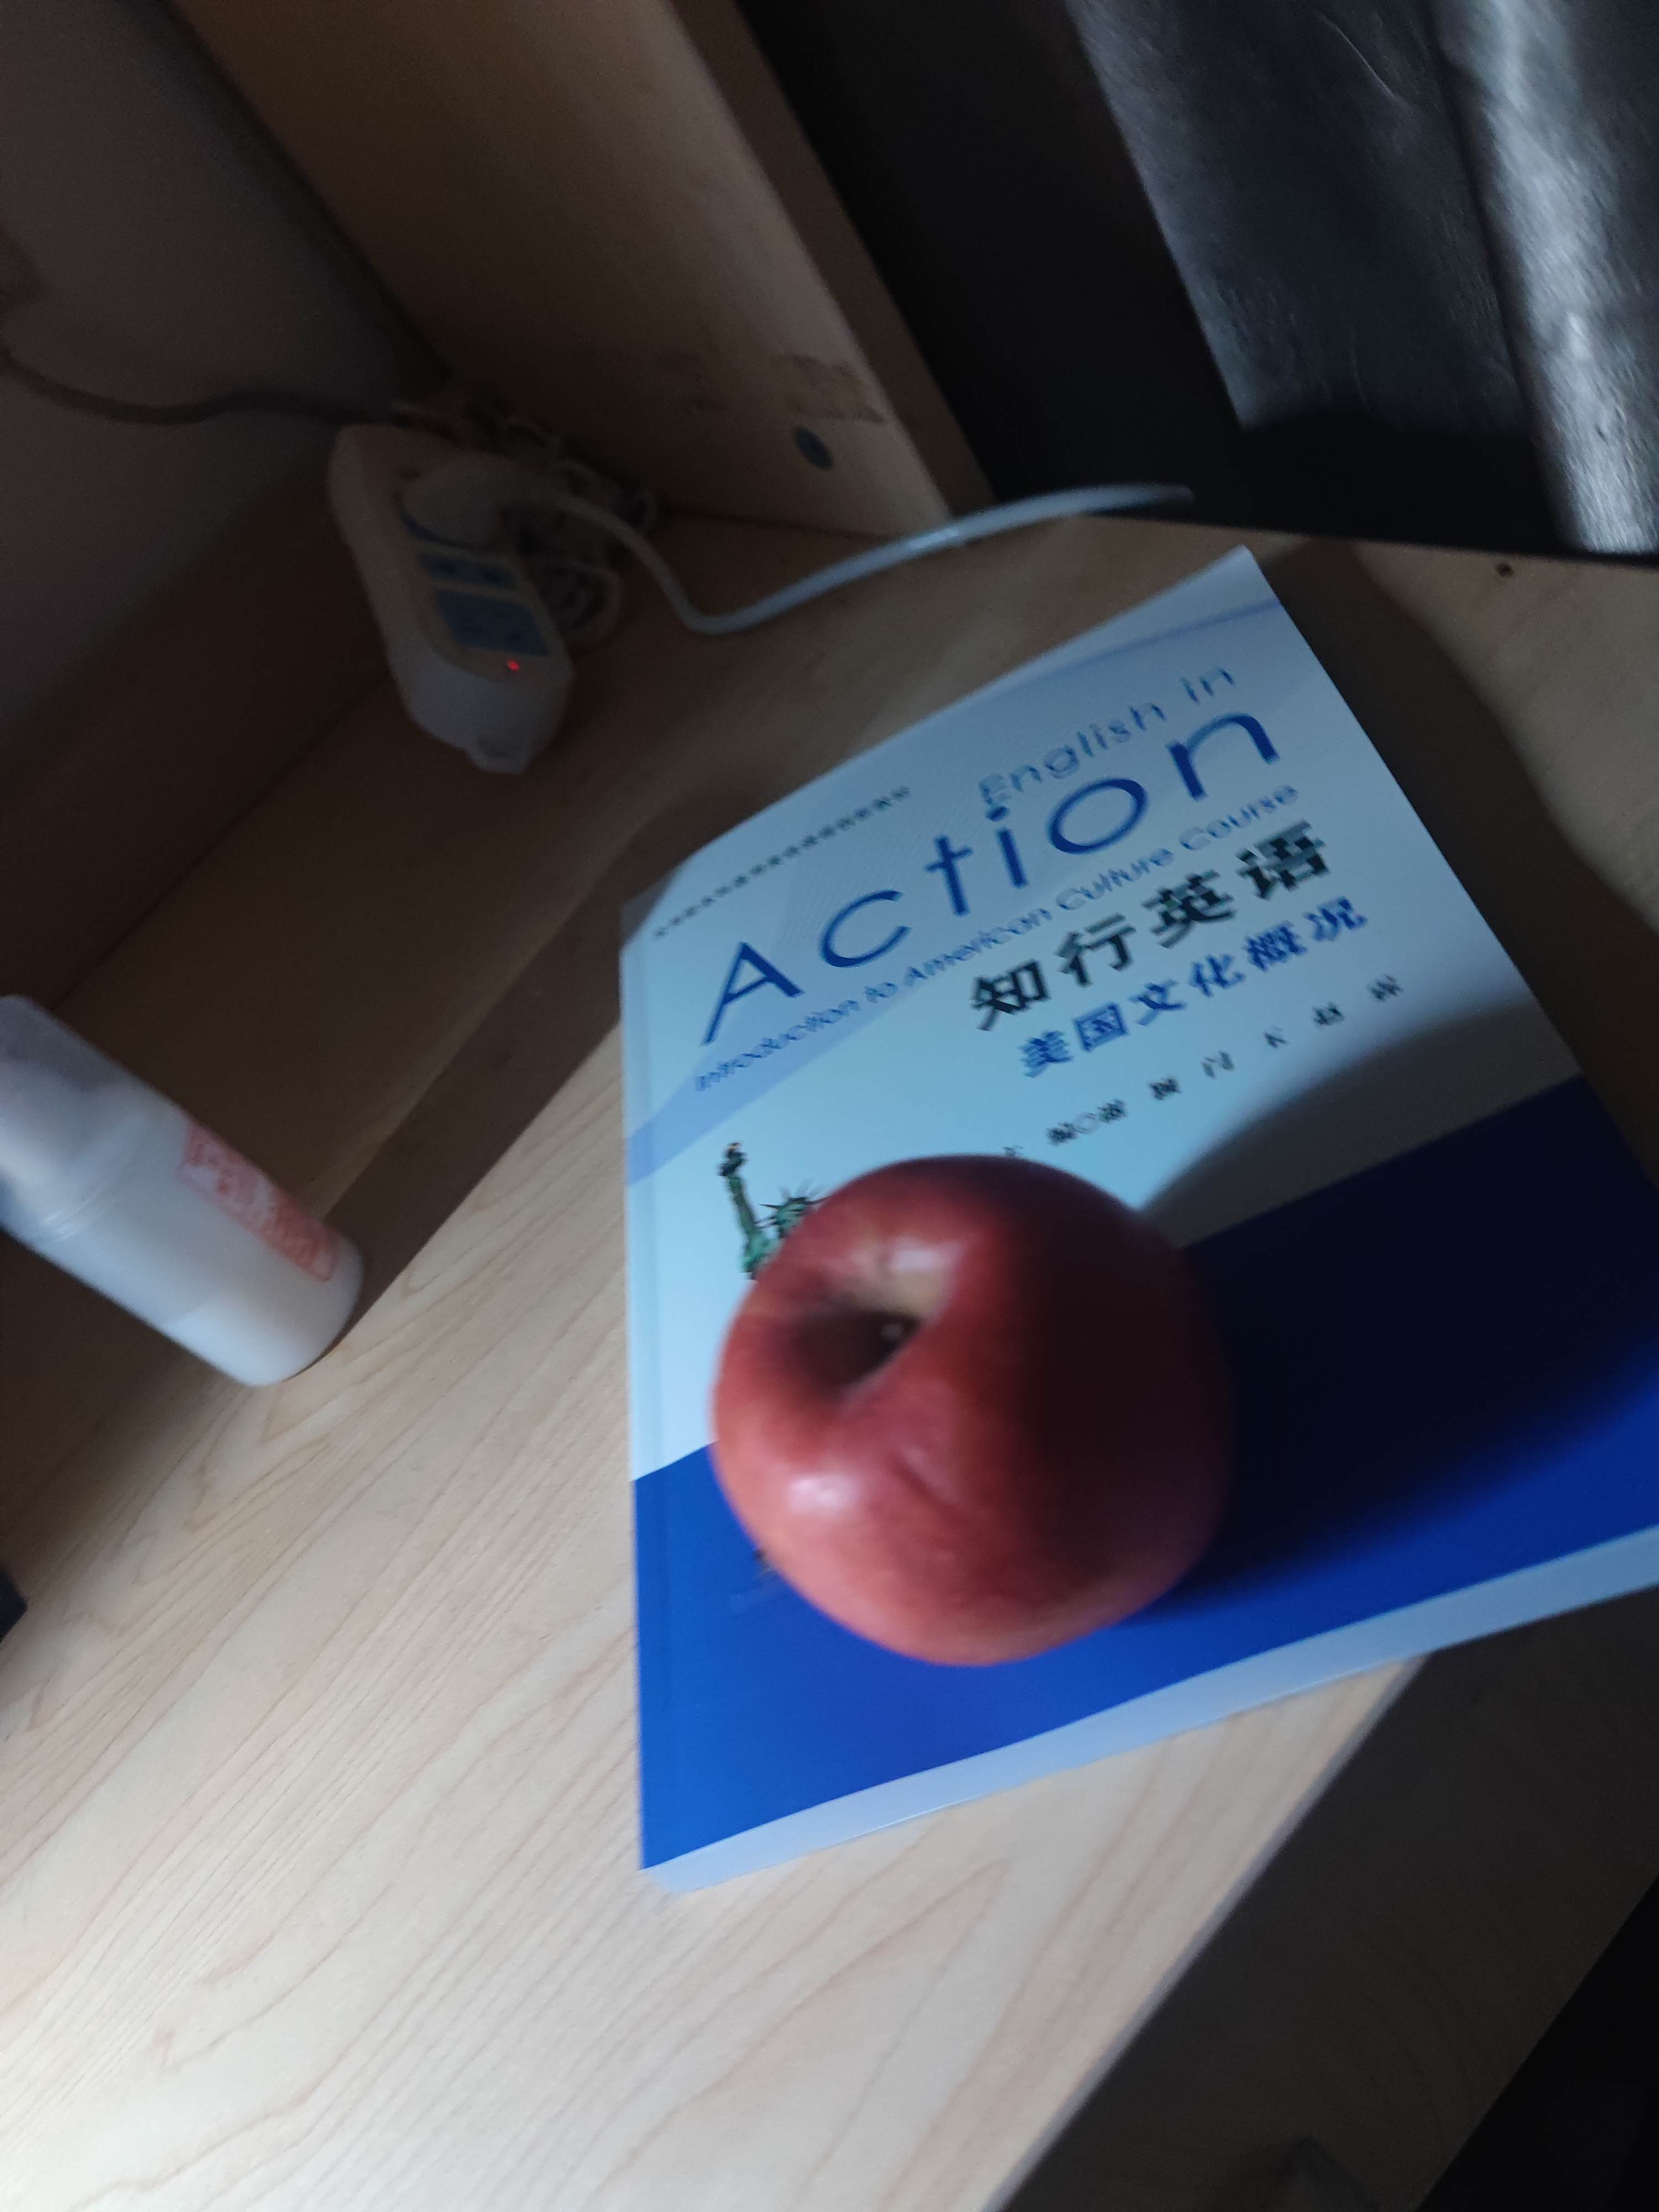apple: (706, 1148, 1241, 1672)
